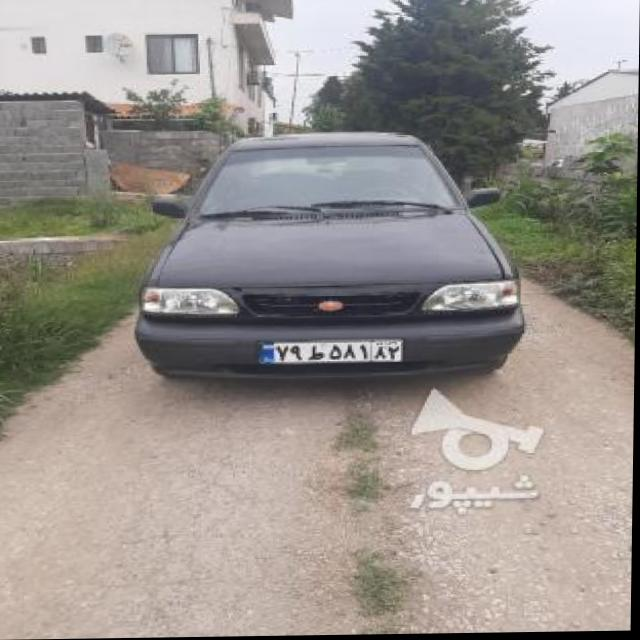licence: (257, 339, 398, 362)
